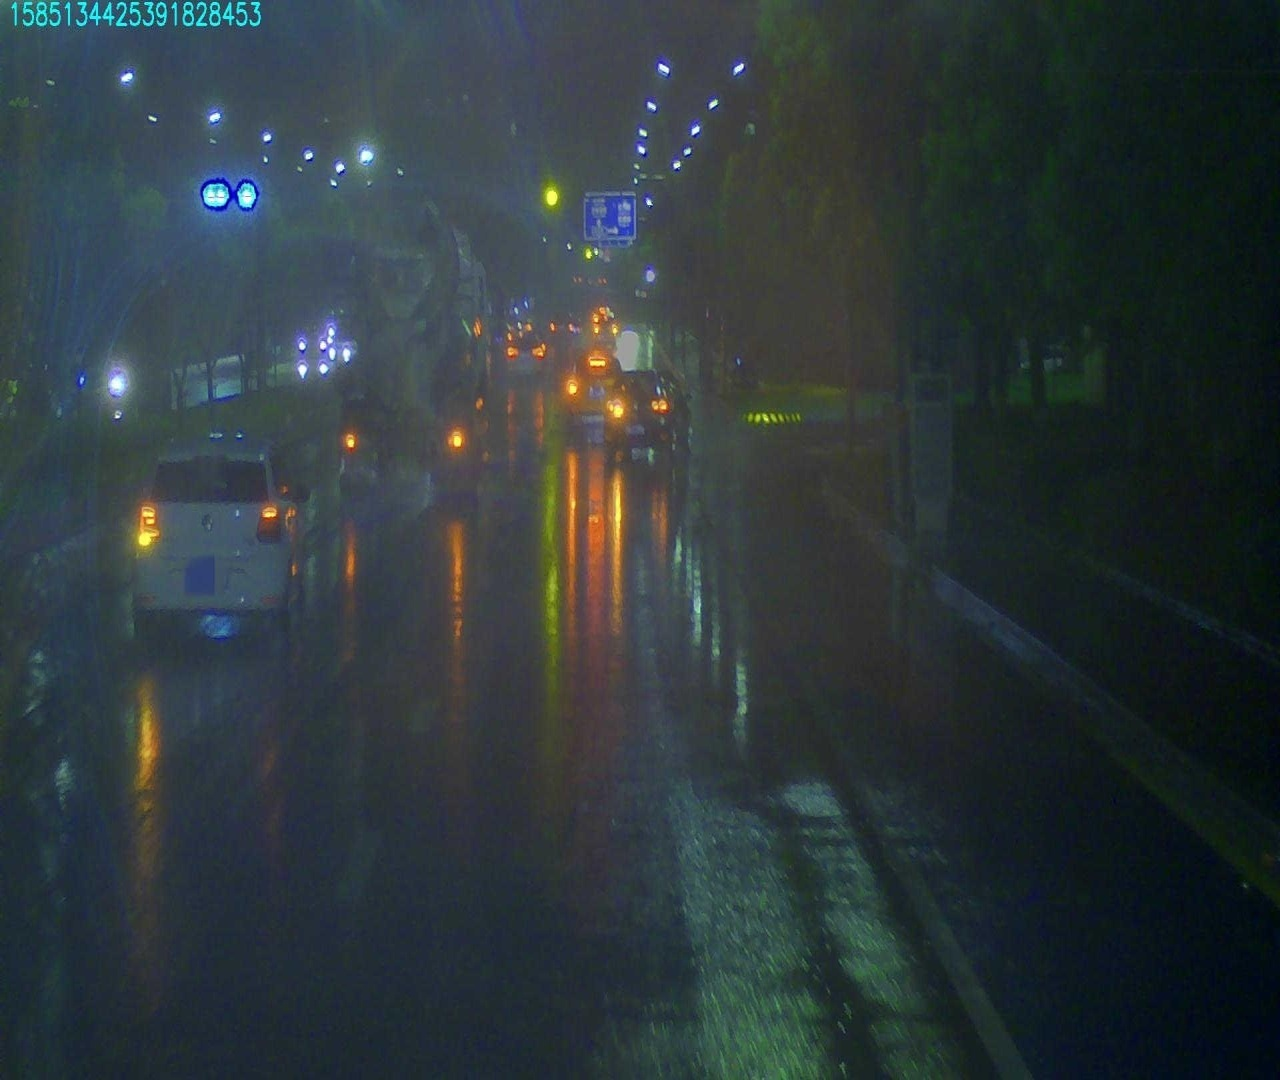yellow: (540, 186, 561, 216)
